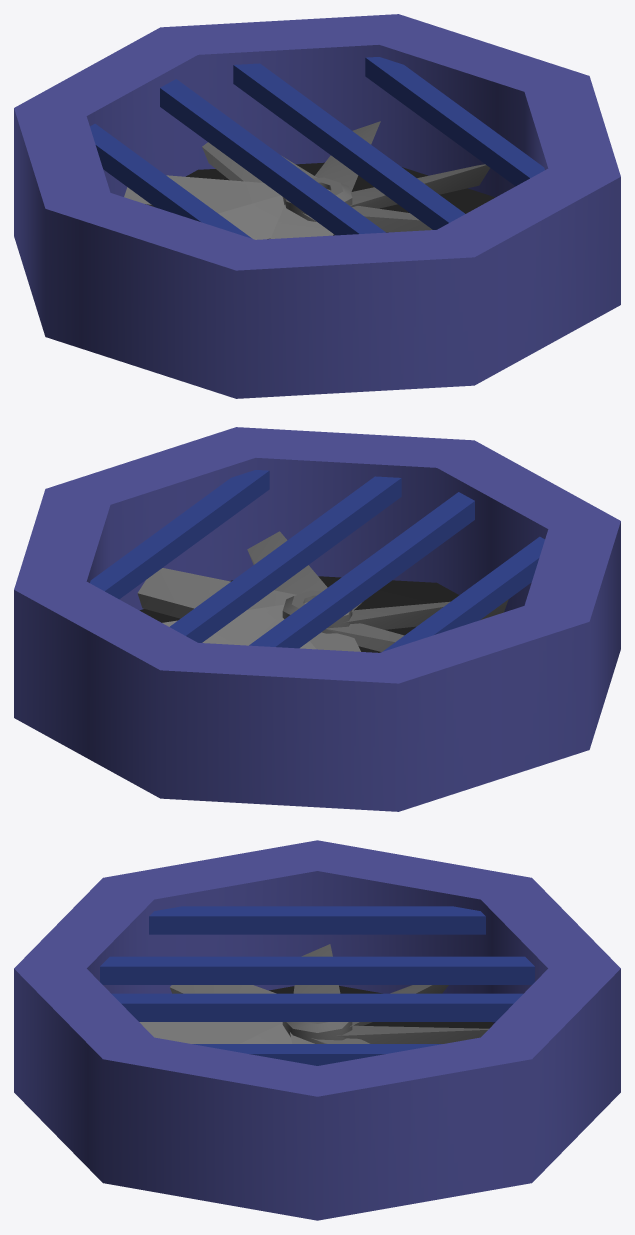
Rendered from Turbine_1_E.fbx.
3 views of the same model, one above another, from view 1: azimuth 30°, elevation 25°; view 2: azimuth 150°, elevation 25°; view 3: azimuth 270°, elevation 25° (orthographic). The views are drawn at different scales.
Visible parts, largest first — view 1: Turbine_1_E, Turbine_1W; view 2: Turbine_1_E, Turbine_1W; view 3: Turbine_1_E, Turbine_1W.
Boxes of the visible parts, box(x1,y1,x2,y2) form: Turbine_1_E: box(14, 14, 620, 398); Turbine_1W: box(124, 121, 489, 239); Turbine_1_E: box(14, 427, 620, 811); Turbine_1W: box(137, 531, 508, 651); Turbine_1_E: box(14, 840, 620, 1220); Turbine_1W: box(139, 944, 488, 1043).
Bounding box in the file's own units: 127 × 28.62 × 127.
